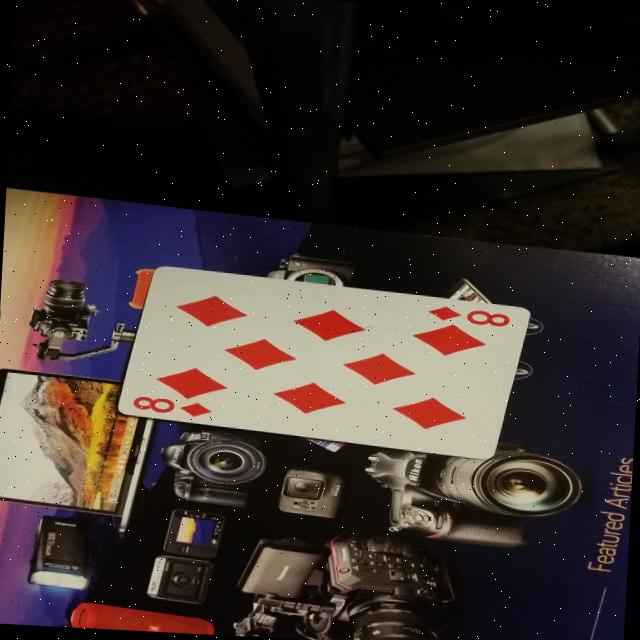8d: (419, 302, 520, 331), (124, 389, 216, 418)
